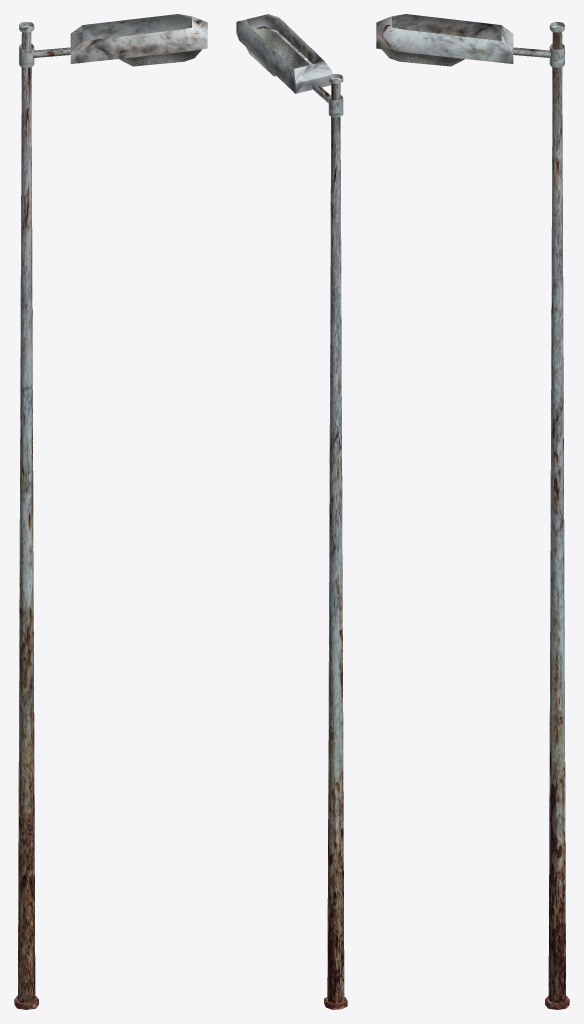
The model's file is streetlight.fbx.
3 renders of one model, left to right at view 1: azimuth 90°, elevation 25°; view 2: azimuth 210°, elevation 25°; view 3: azimuth 270°, elevation 25°, orthographic. The views are drawn at different scales.
Visible parts, largest first — view 1: Plane.058; view 2: Plane.058; view 3: Plane.058.
Part boxes in pixels (box(x1,y1,x2,y2)): Plane.058: box(14, 14, 207, 1009); Plane.058: box(236, 14, 347, 1009); Plane.058: box(376, 14, 569, 1009).
Bounding box in the file's own units: 40 × 919 × 164.
Materials: 1 (1 with a texture image).
